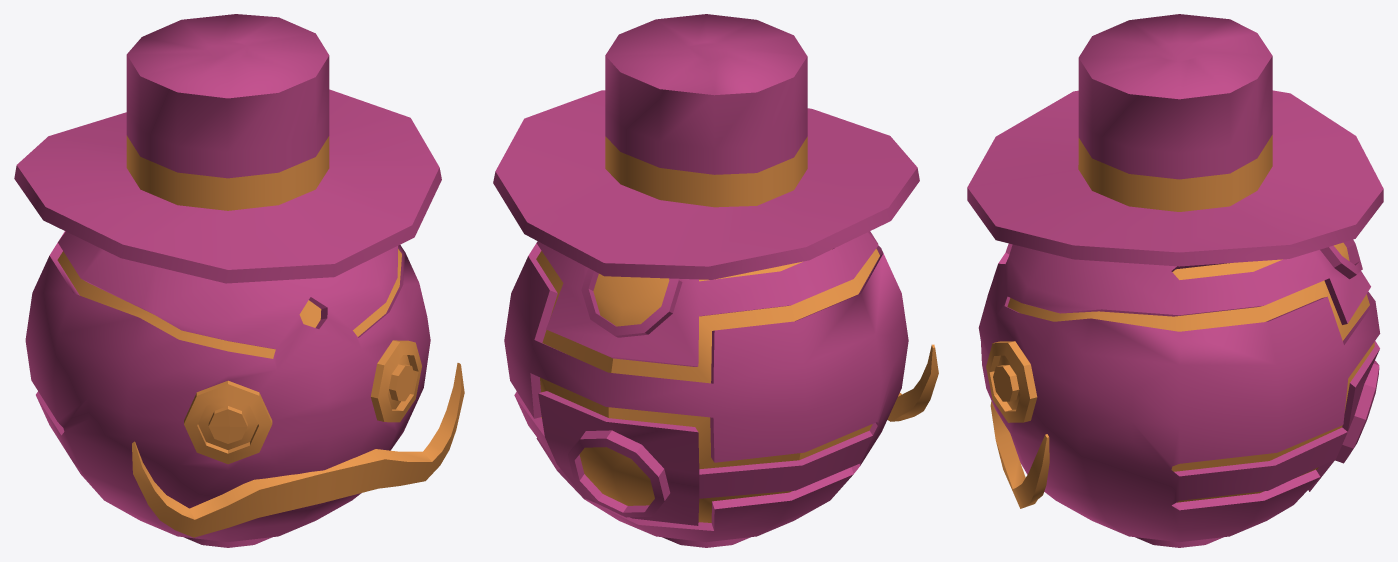
The model's file is SherrmyTophat.fbx.
3 renders of one model, left to right at view 1: azimuth 30°, elevation 25°; view 2: azimuth 150°, elevation 25°; view 3: azimuth 270°, elevation 25°, orthographic.
Parts seen in each view (by area): view 1: Wall.001; view 2: Wall.001; view 3: Wall.001.
Boxes of the visible parts, x1=… form: Wall.001: x1=14, y1=14, x2=464, y2=547; Wall.001: x1=493, y1=14, x2=938, y2=547; Wall.001: x1=967, y1=14, x2=1383, y2=547.
Size of the model in its own units: 144 by 177 by 141.
